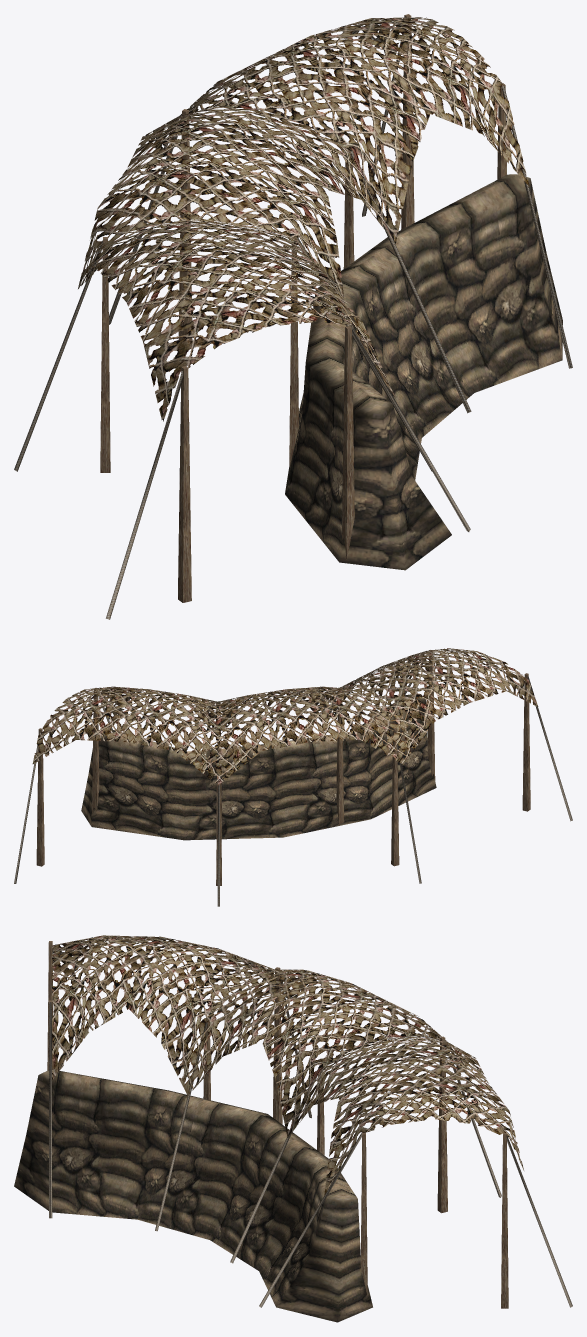
File: Bnkr09.glb
The picture shows the model from 3 angles, top to bottom: view 1: azimuth 30°, elevation 25°; view 2: azimuth 150°, elevation 25°; view 3: azimuth 270°, elevation 25°; orthographic projection. The views are drawn at different scales.
Parts seen in each view (by area): view 1: _Bnkr09; view 2: _Bnkr09; view 3: _Bnkr09.
Part boxes in pixels (bbox=[...]): _Bnkr09: bbox=[14, 14, 572, 619]; _Bnkr09: bbox=[14, 648, 572, 906]; _Bnkr09: bbox=[14, 935, 572, 1322].
Size of the model in its own units: 7.3 by 2.95 by 7.3.
Materials: 2 (2 with a texture image).
